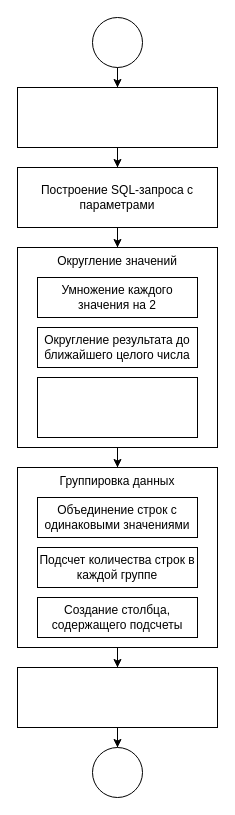
This 235x815 diagram has some shape labels left out. The shapes that lost their labels are listed below. From the top down, each one's centre as x and y in pixels, then its label:
At [117,117]: "Получение параметров для визуализации из запроса".
At [117,407]: "Деление округленного значения на 2, чтобы вернуть его в исходный диапазон".
At [117,697]: "Преобразование DataFrame в подходящий формат".
